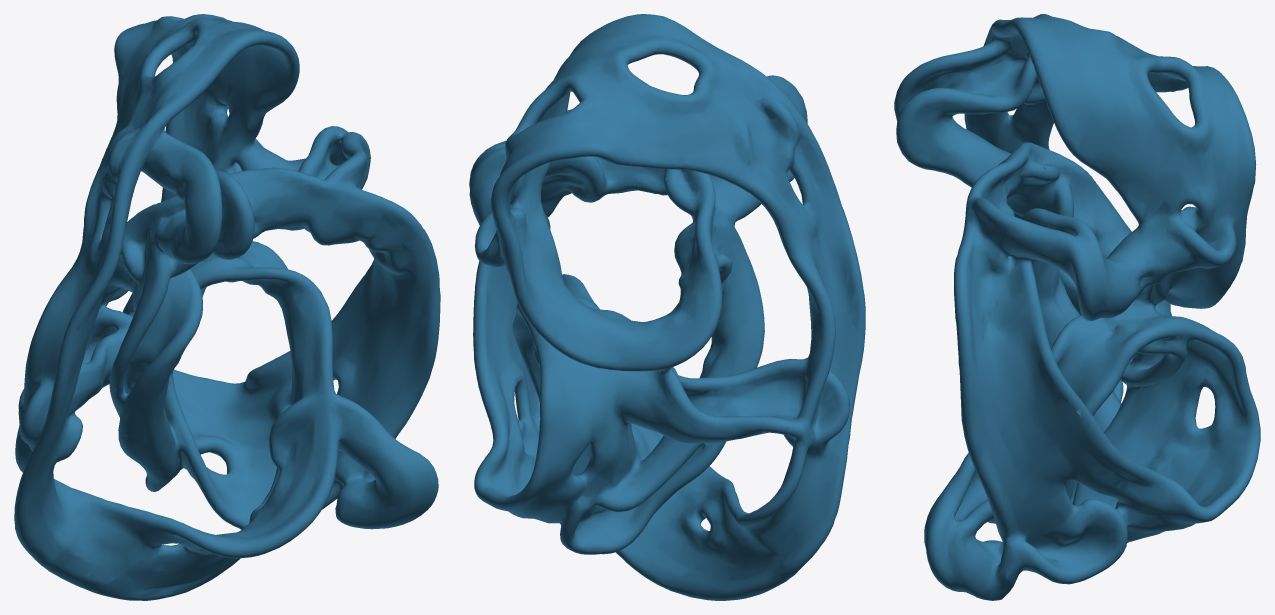
Rendered from knotted-veil.glb.
3 renders of one model, left to right at view 1: azimuth 30°, elevation 25°; view 2: azimuth 150°, elevation 25°; view 3: azimuth 270°, elevation 25°, orthographic. The views are drawn at different scales.
Visible parts, largest first — view 1: 06_Knotted_Veil; view 2: 06_Knotted_Veil; view 3: 06_Knotted_Veil.
Part boxes in pixels (left/top/right/bottom): 06_Knotted_Veil: left=14, top=14, right=440, bottom=600; 06_Knotted_Veil: left=469, top=14, right=865, bottom=600; 06_Knotted_Veil: left=894, top=14, right=1260, bottom=600.
Bounding box in the file's own units: 2.93 × 4.15 × 2.4.
